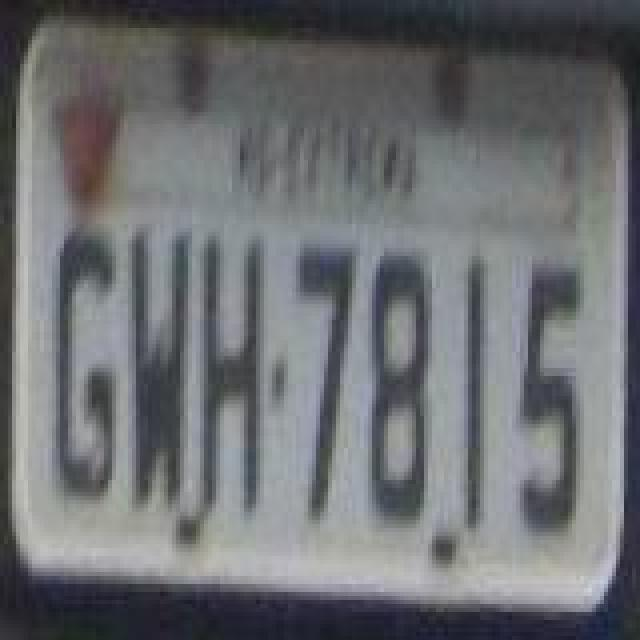1: (460, 248, 484, 536)
5: (518, 260, 586, 540)
7: (300, 244, 356, 524)
8: (368, 252, 432, 532)
G: (56, 228, 120, 508)
H: (200, 232, 264, 520)
W: (128, 224, 192, 512)
